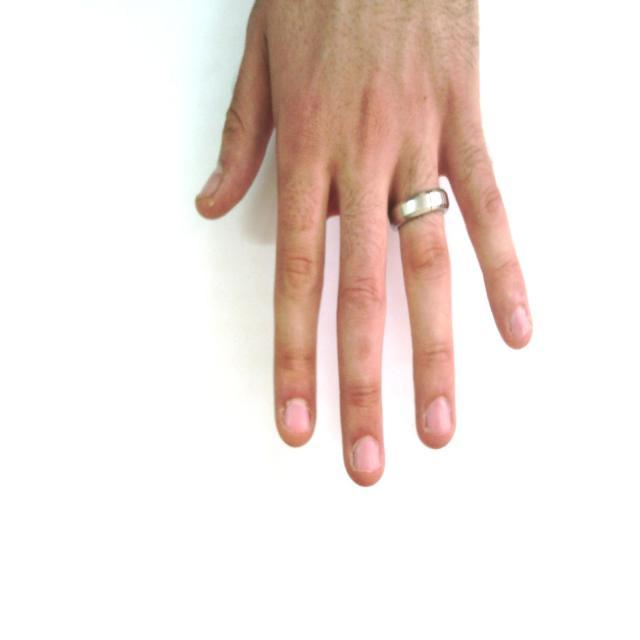Fingernail: (354, 437, 381, 472), (426, 398, 451, 434), (285, 400, 310, 434), (197, 169, 222, 200), (512, 307, 530, 338)
